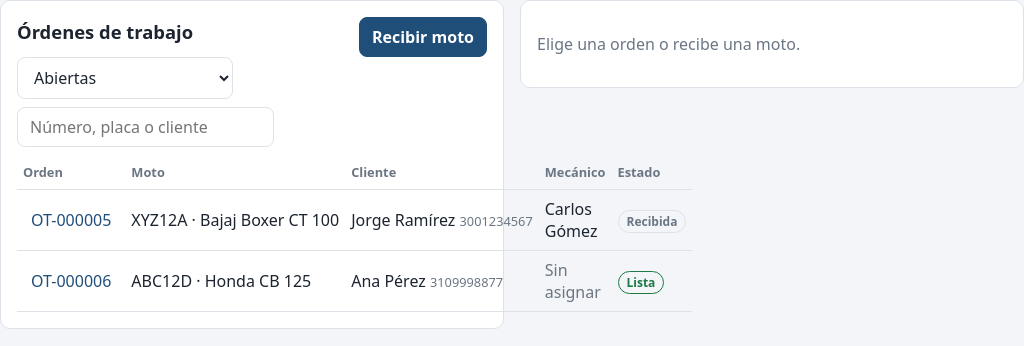
Test case: pantalla Órdenes › lista las abiertas, filtra por estado y busca por placa o cliente
The image size is (1024, 346).
Expected: the row "OT-000005" shows "XYZ12A · Bajaj Boxer CT 100", [131,209,339,231]
Expected: the row "OT-000005" shows "Jorge Ramírez 3001234567", [17,190,692,250]
Type "abc-12" into the field named "Buscar orden" at [146, 127], box [17,107,274,147]
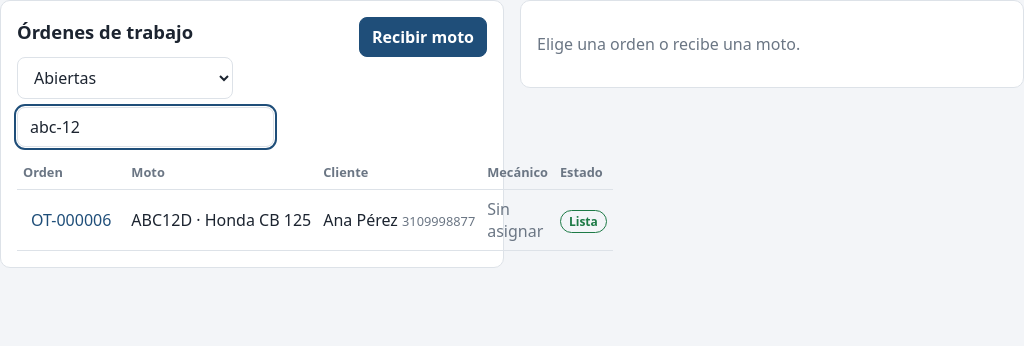
Expected: the row "OT-000006" is shown, [17,190,613,250]
Now the button "OT-000005" is gone
Replace the text in the field named "Buscar orden" with "jorge" at [146, 127], box [17,107,274,147]
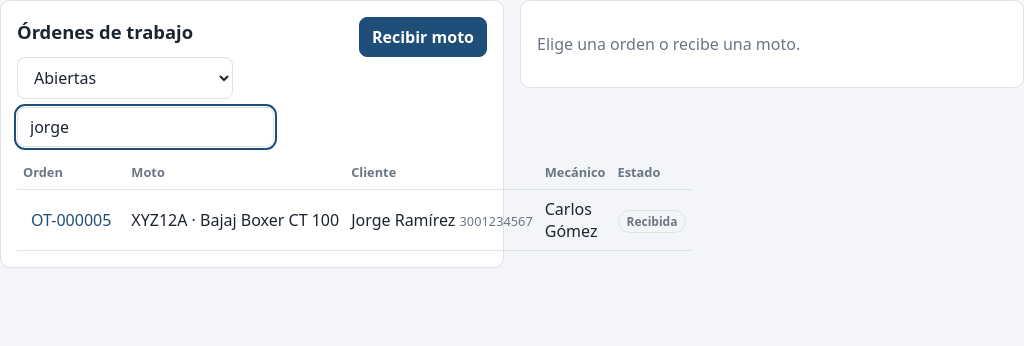
Now the row "OT-000005" is shown, box [17,190,692,250]
Now the number of rows is 2, box [17,155,692,190]; [17,190,692,250]
Type "zzz" into the field named "Buscar orden" at [146, 127], box [17,107,274,147]
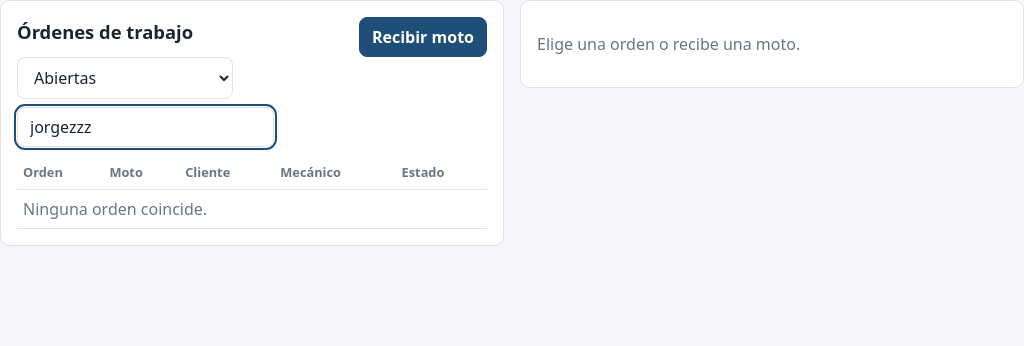
Now the text "Ninguna orden coincide." is shown, box [17,190,487,228]
Select "Cancelada" in the dropdown named "Estado" at [125, 78], box [17,57,233,99]
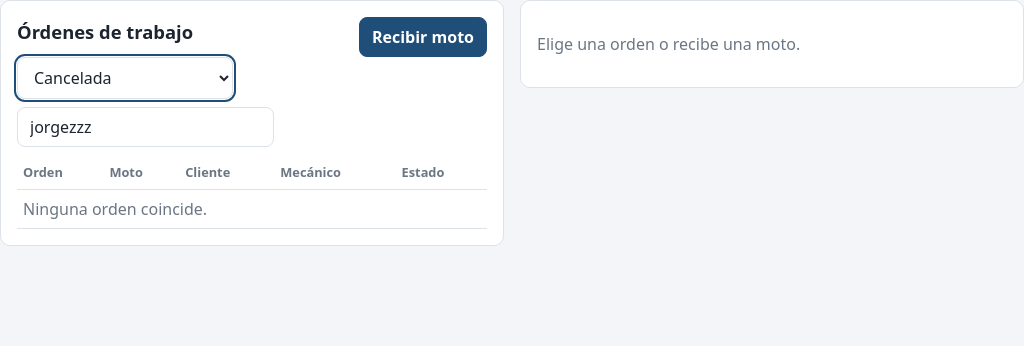
Now the text "Ninguna orden coincide." is shown, box [17,190,487,228]
Clear the field named "Buscar orden" at [146, 127], box [17,107,274,147]
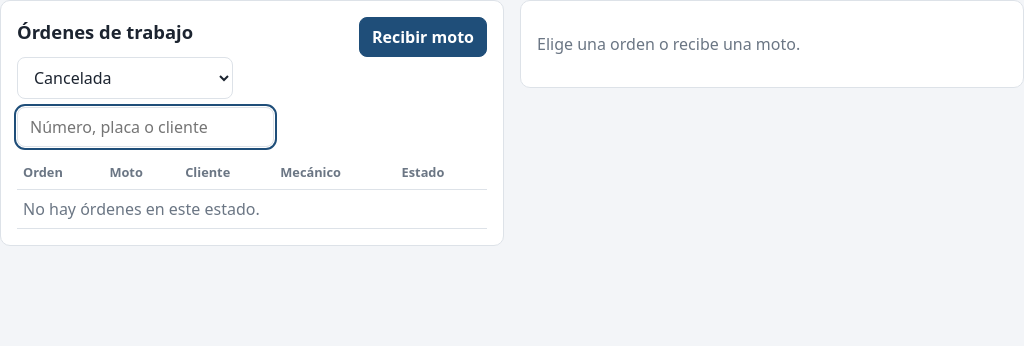
Now the text "No hay órdenes en este estado." is shown, box [17,190,487,228]
